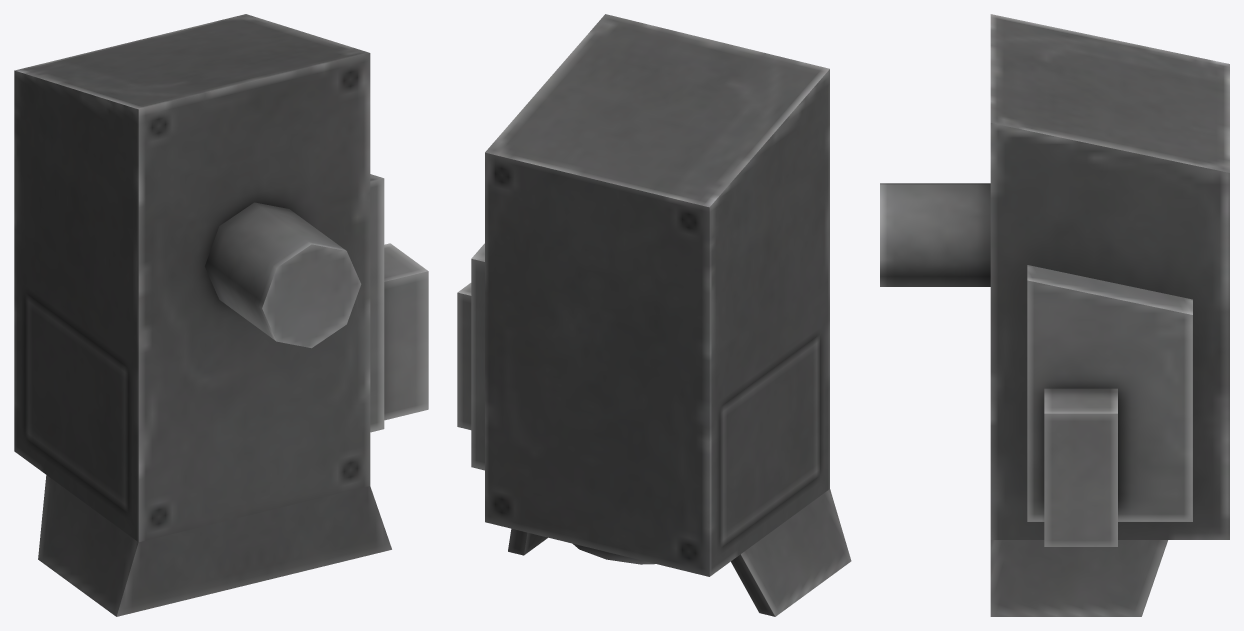
Rendered from naked no pan.obj.
3 renders of one model, left to right at view 1: azimuth 30°, elevation 25°; view 2: azimuth 150°, elevation 25°; view 3: azimuth 270°, elevation 25°, orthographic. The views are drawn at different scales.
Visible parts, largest first — view 1: 2; view 2: 2; view 3: 2.
Boxes of the visible parts, box(x1,y1,x2,y2) form: 2: box(14, 14, 428, 616); 2: box(457, 14, 851, 616); 2: box(880, 14, 1229, 616).
Bounding box in the file's own units: 0.2569 × 0.3625 × 0.2375.
1 material, 1 textured.
